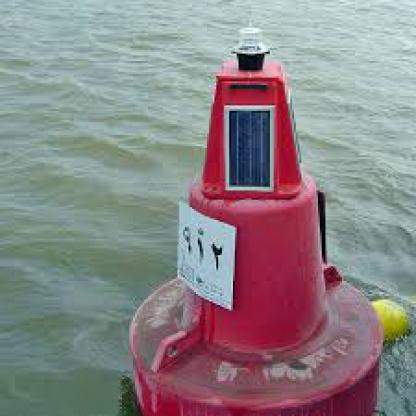buoy: (118, 13, 392, 414)
